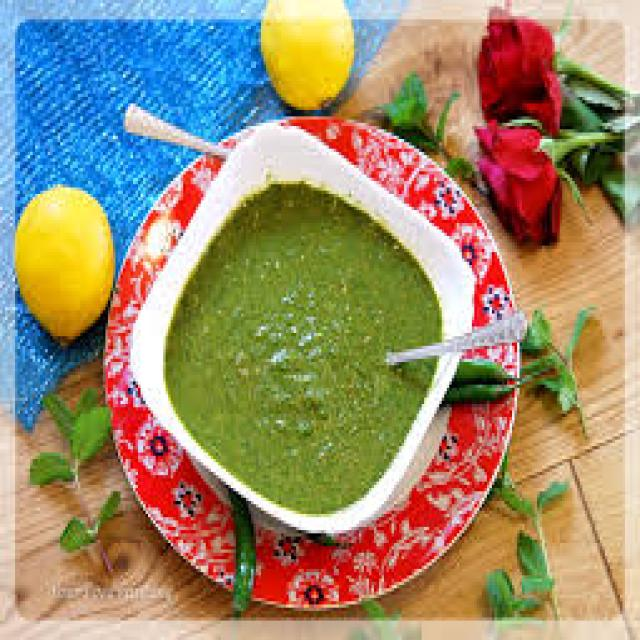GREEN CHUTNEY: (165, 138, 462, 543)
